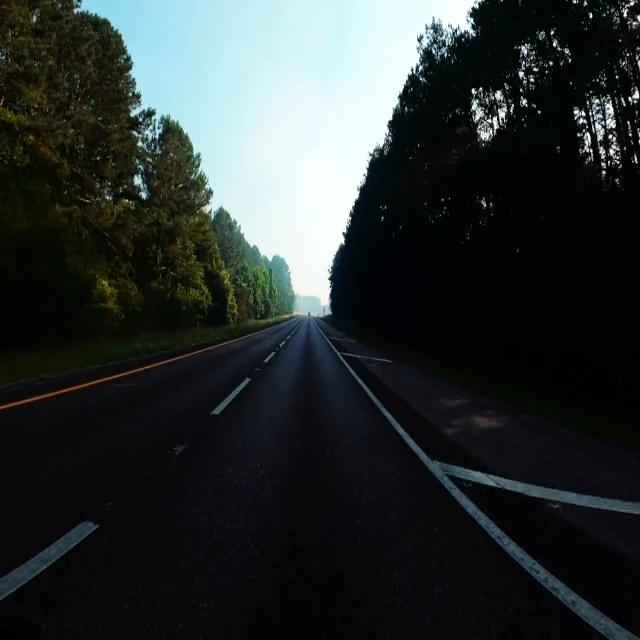lane: (338, 354, 639, 639), (0, 352, 201, 411), (0, 520, 99, 599), (211, 378, 250, 416)
road: (0, 319, 596, 637)
